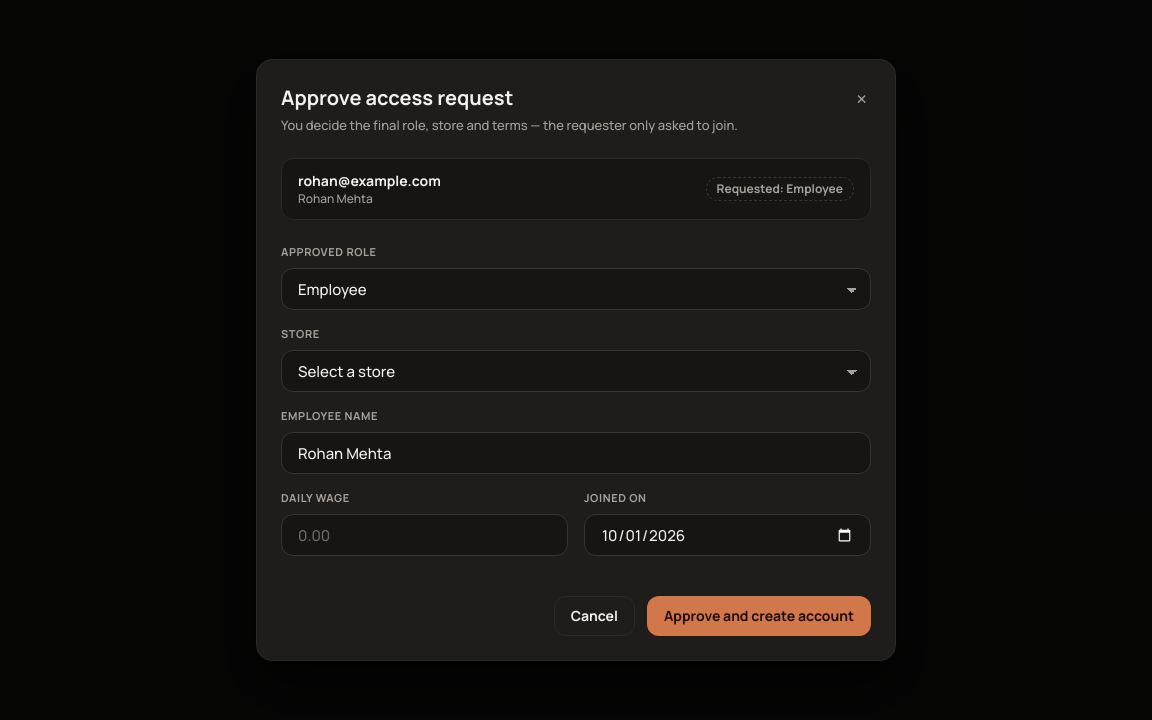
Test: access request approval form › renders no wage field when approving as a store manager
Step 1. Select "Store Manager" in the dropdown labelled "Approved role" → (576, 289), box [281,268,871,310]
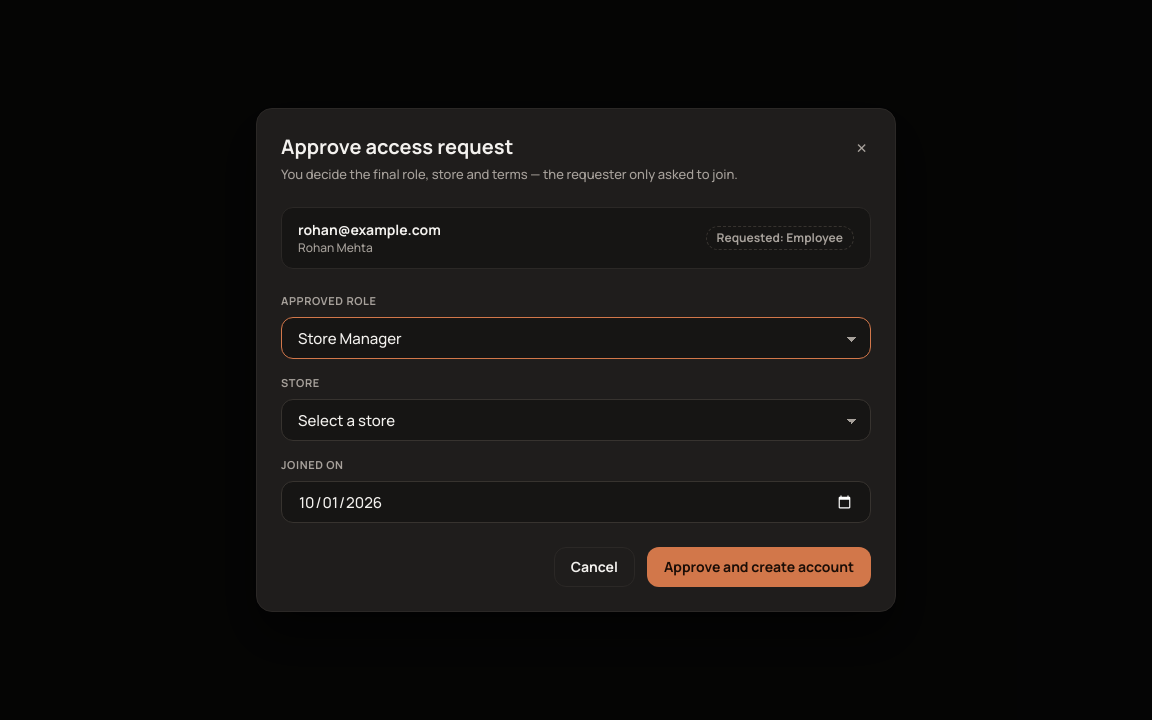
Check: the label labelled "Daily wage" is gone
Check: the label labelled "Employee name" is gone
Check: the date field labelled "Joined on" is shown, box [281,481,871,523]
